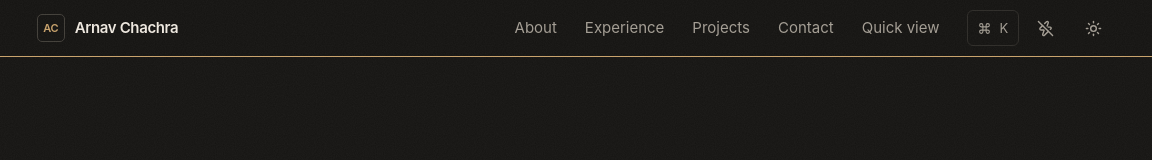
Test case: Site header › switches animated effects on and off from the header
Click the button named "Animated effects" at (1045, 28), box 1023,6 -> 1067,50
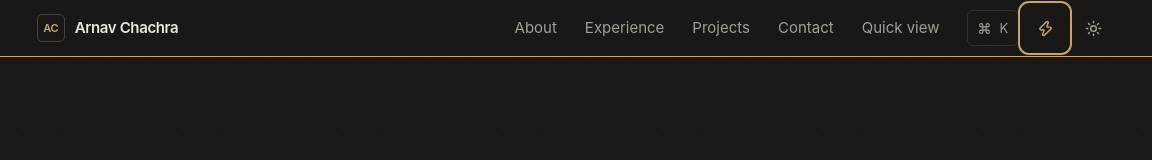
Now the button named "Animated effects" is pressed
Click the button named "Animated effects" at (1045, 28), box 1023,6 -> 1067,50
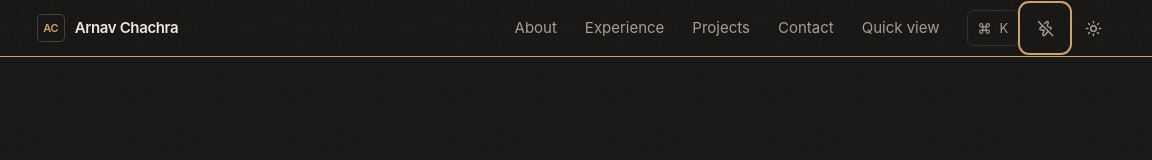
Now the button named "Animated effects" is not pressed, box 1023,6 -> 1067,50
